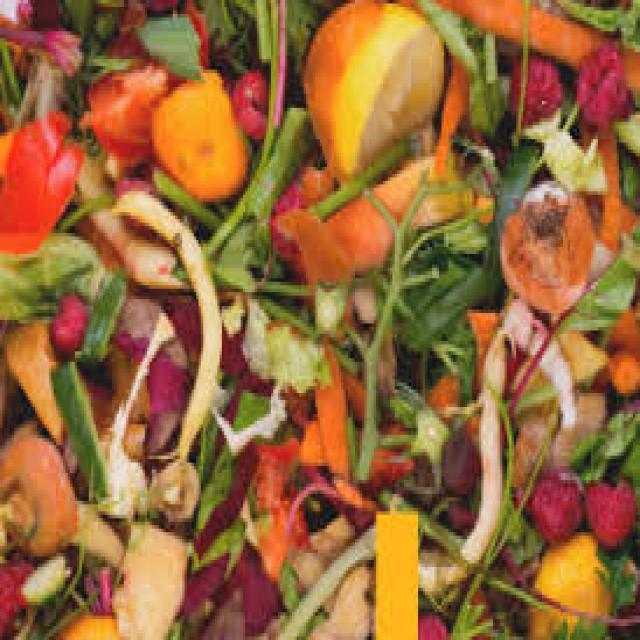Wet: (3, 4, 640, 640), (289, 4, 483, 179)
